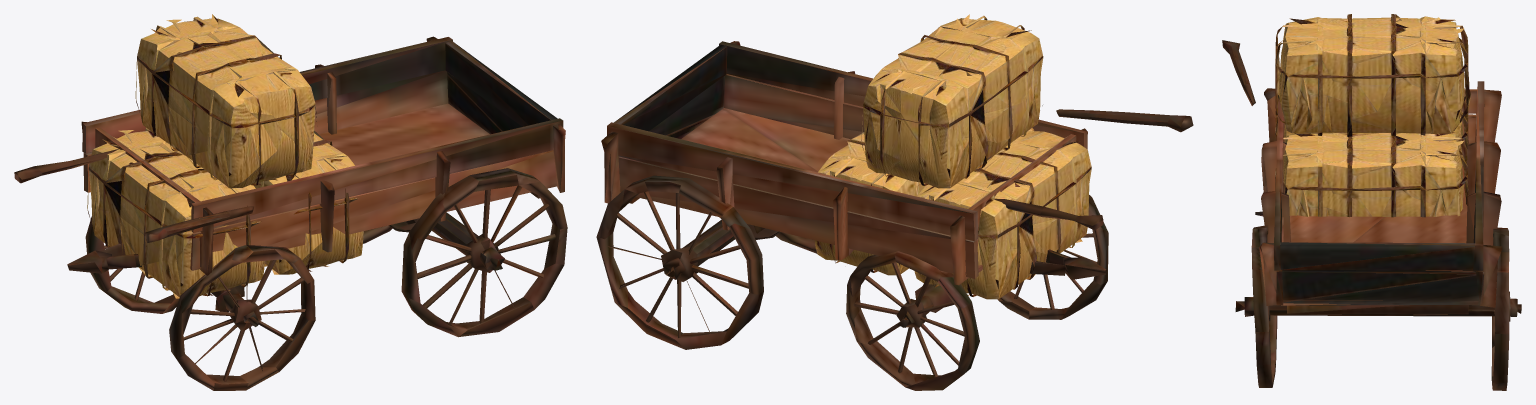
The model's file is loaded-cart.lod1.glb.
The picture shows the model from 3 angles, left to right: view 1: azimuth 30°, elevation 25°; view 2: azimuth 150°, elevation 25°; view 3: azimuth 270°, elevation 25°; orthographic projection. The views are drawn at different scales.
Size of the model in its own units: 2.2 by 1.34 by 1.36.
2 materials, 2 textured.
